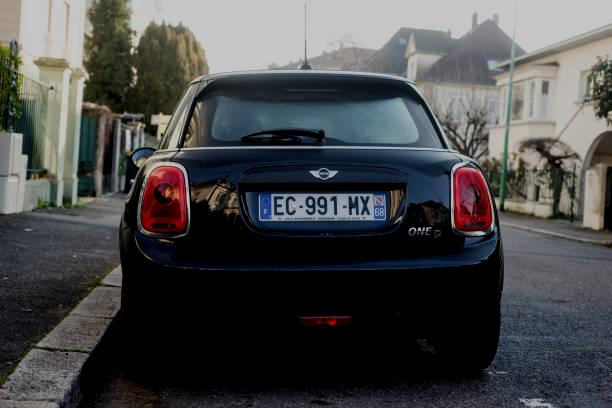mini: (303, 162, 356, 193)
